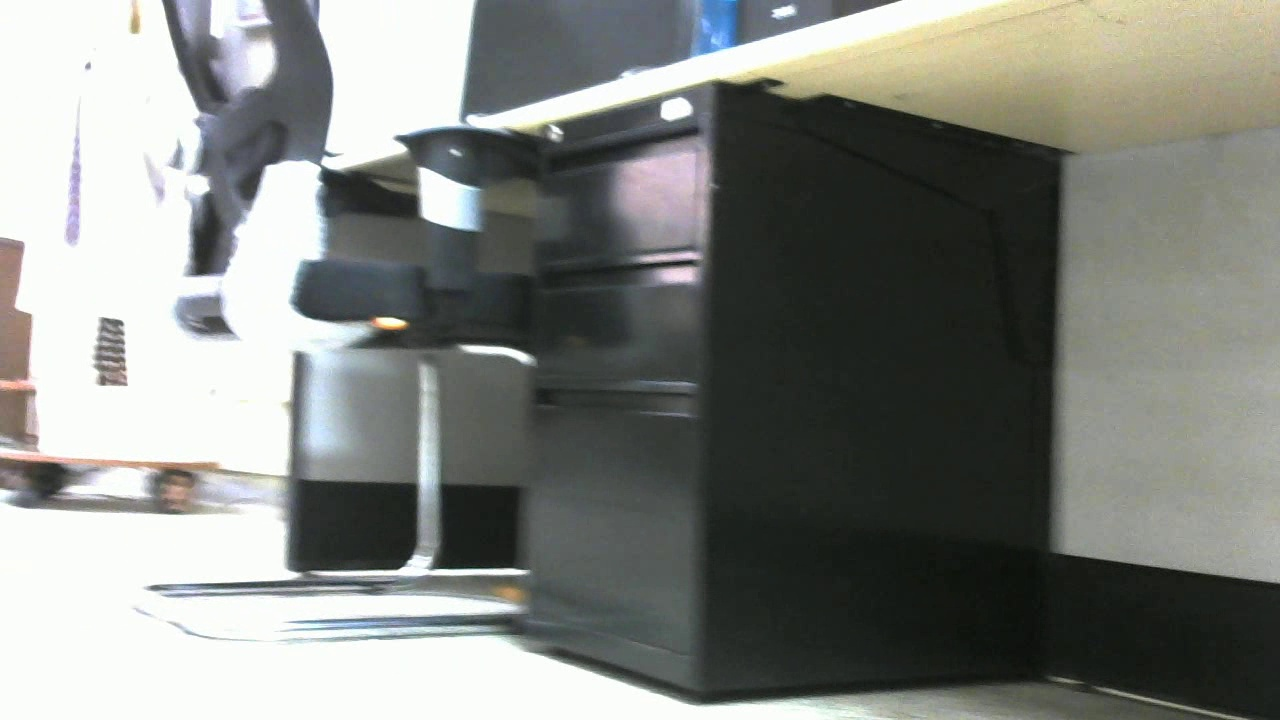chair: (117, 2, 537, 641)
